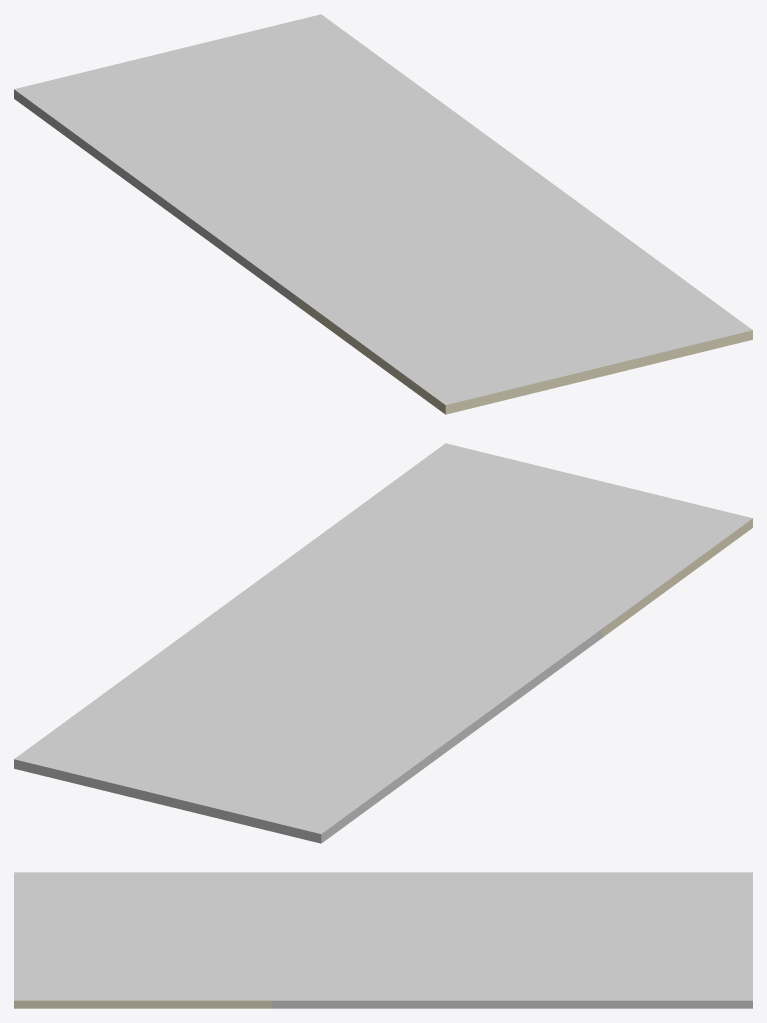
File: piso_base_2.glb
The picture shows the model from 3 angles, top to bottom: view 1: azimuth 30°, elevation 25°; view 2: azimuth 150°, elevation 25°; view 3: azimuth 270°, elevation 25°; orthographic projection. The views are drawn at different scales.
Visible parts, largest first — view 1: piso base.002; view 2: piso base.002; view 3: piso base.002.
Part boxes in pixels (x1=…): piso base.002: x1=14, y1=14, x2=752, y2=414; piso base.002: x1=14, y1=443, x2=752, y2=843; piso base.002: x1=14, y1=872, x2=752, y2=1008.
Bounding box in the file's own units: 58.61 × 1.73 × 143.
